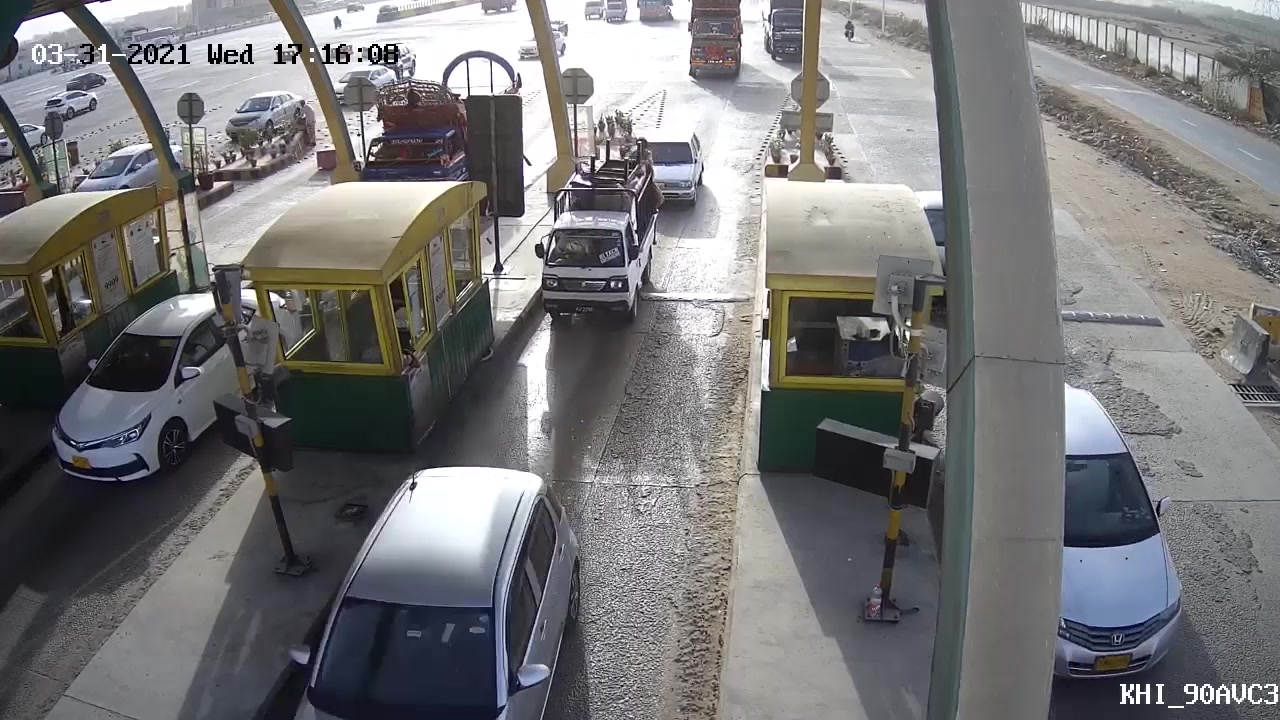F1: (521, 142, 669, 334)
